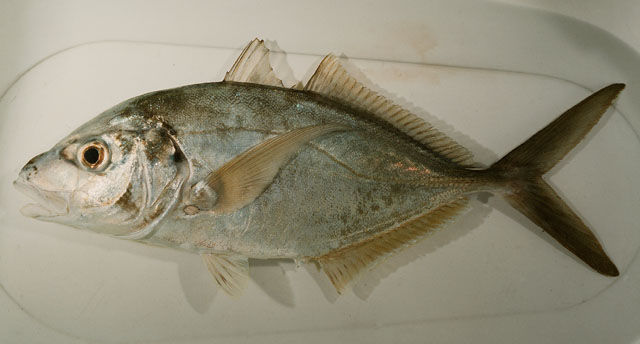fish: (13, 38, 627, 298)
